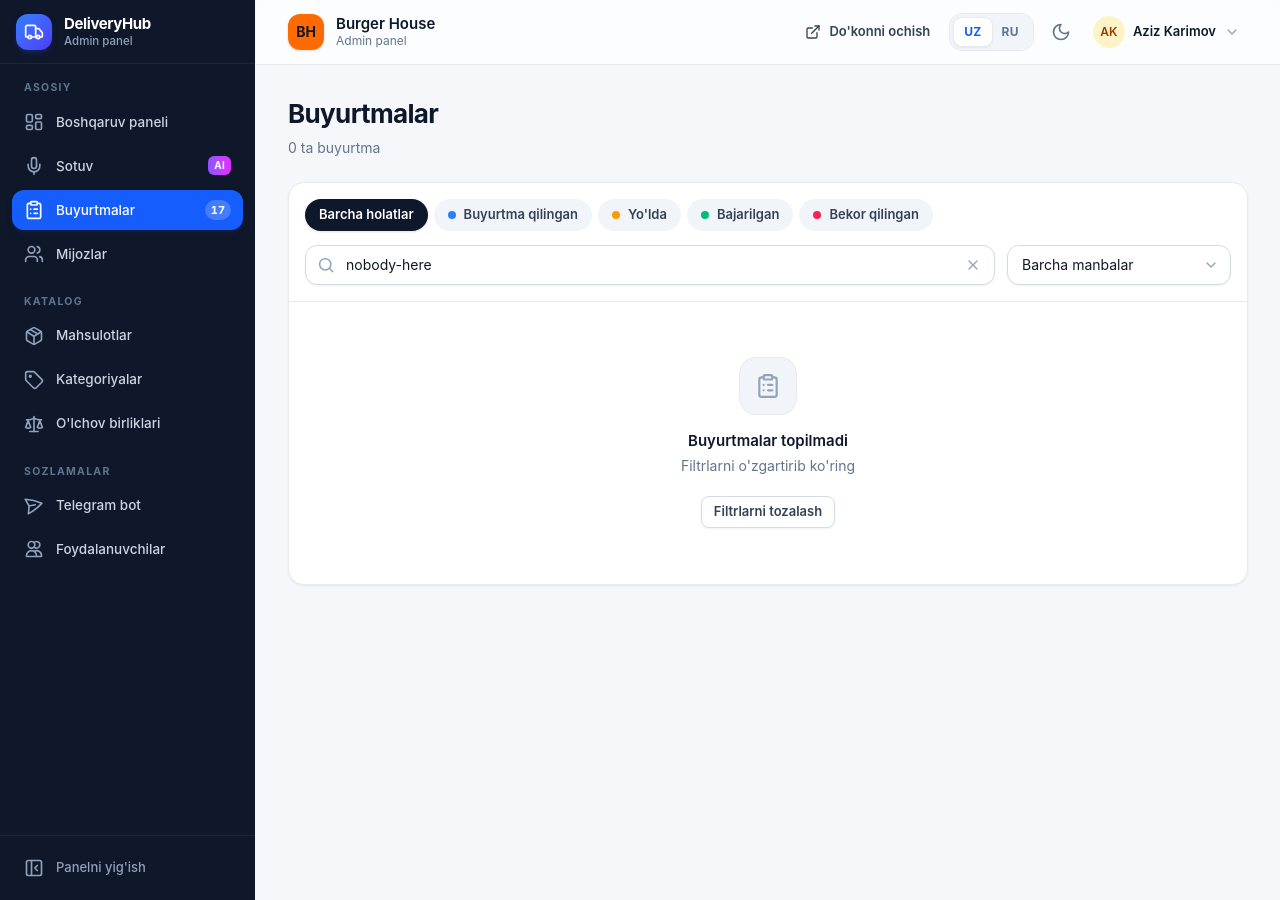
Test: orders list › offers to reset filters when nothing matches
Check: the text "Buyurtmalar topilmadi" is shown, box x1=688 y1=430 x2=848 y2=452
What coordinates should you click on to do the following:
click the button "Filtrlarni tozalash"
I would click on:
 (768, 512)
Its box is x1=701 y1=496 x2=835 y2=528.
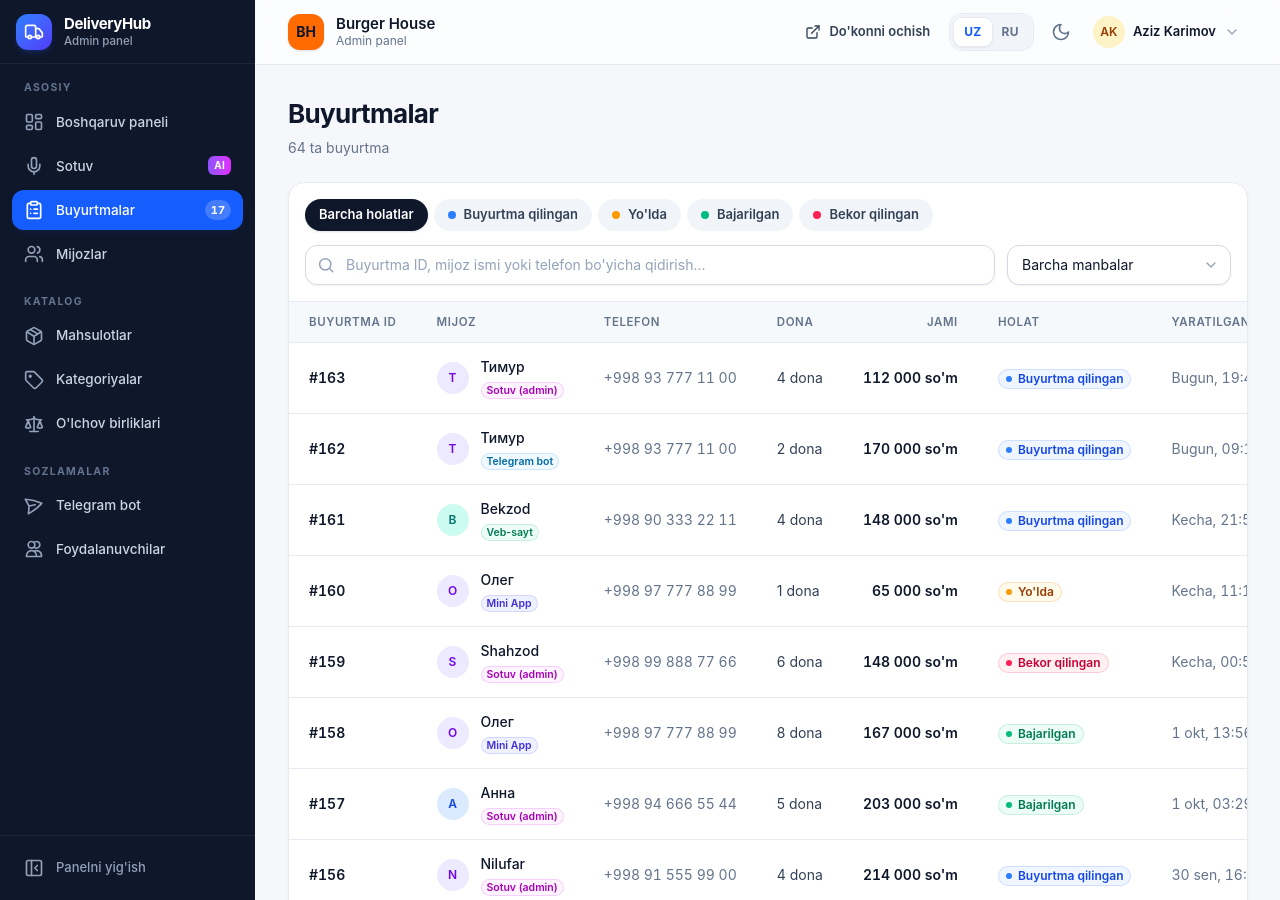
Check: the link "#163" is shown, box x1=309 y1=369 x2=345 y2=386
